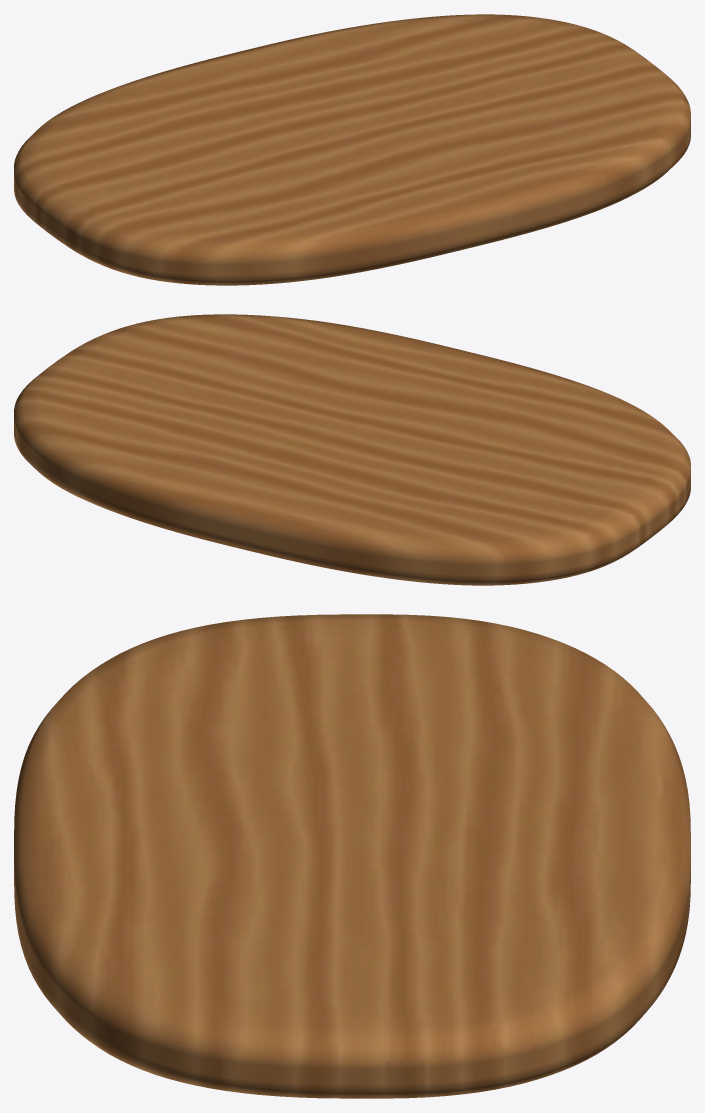
The model's file is board_wood.glb.
3 renders of one model, top to bottom at view 1: azimuth 30°, elevation 25°; view 2: azimuth 150°, elevation 25°; view 3: azimuth 270°, elevation 25°, orthographic. The views are drawn at different scales.
Visible parts, largest first — view 1: EX_Board_wood; view 2: EX_Board_wood; view 3: EX_Board_wood.
Part boxes in pixels (box(x1,y1,x2,y2)): EX_Board_wood: box(14, 14, 690, 285); EX_Board_wood: box(14, 314, 690, 585); EX_Board_wood: box(14, 614, 690, 1098).
Size of the model in its own units: 0.24 by 0.016 by 0.156.
1 material, 1 textured.
